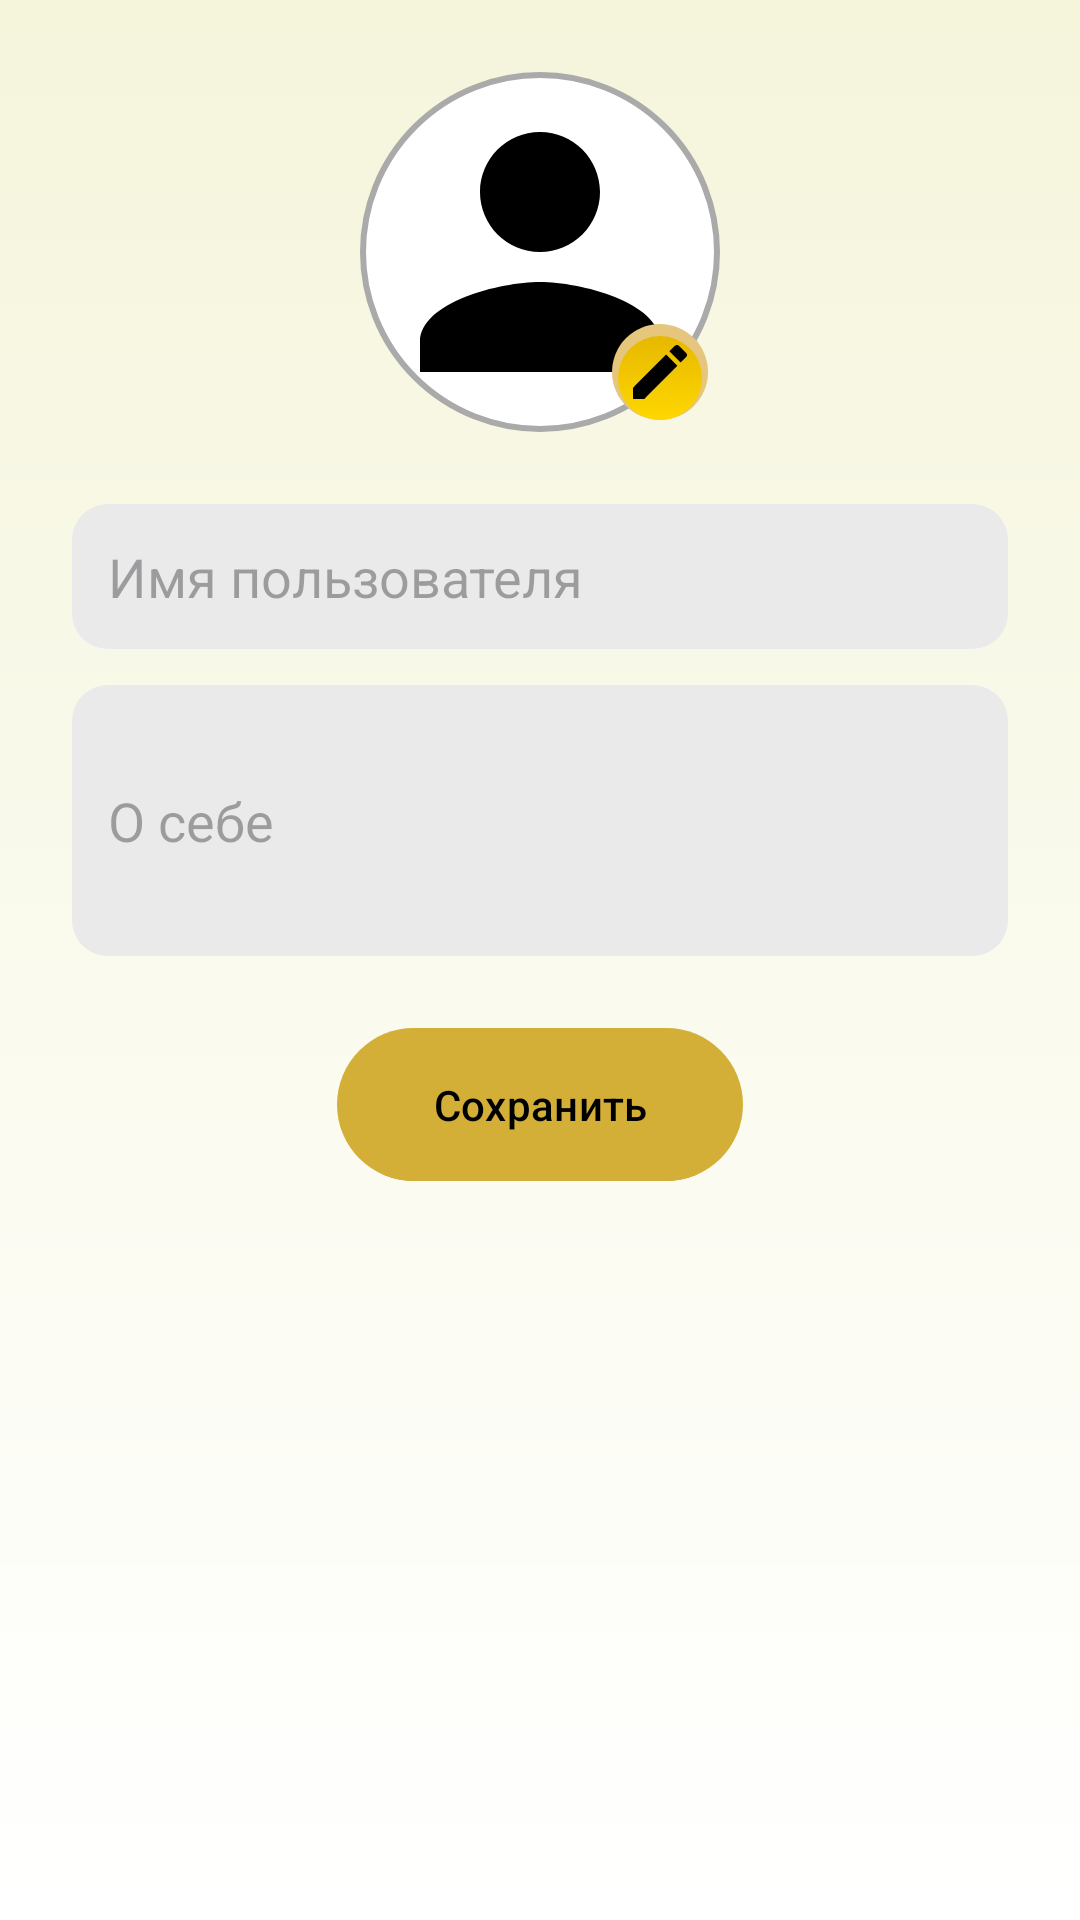

Screen size 1080px×1920px. Icon name, then its center in pixels as (x=x, y=y):
Изменить аватар: (x=660, y=372)
